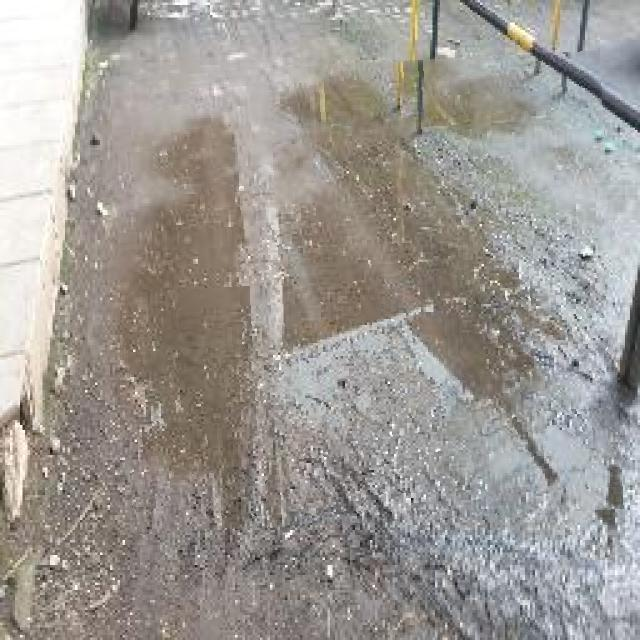puddle: (116, 58, 619, 529)
